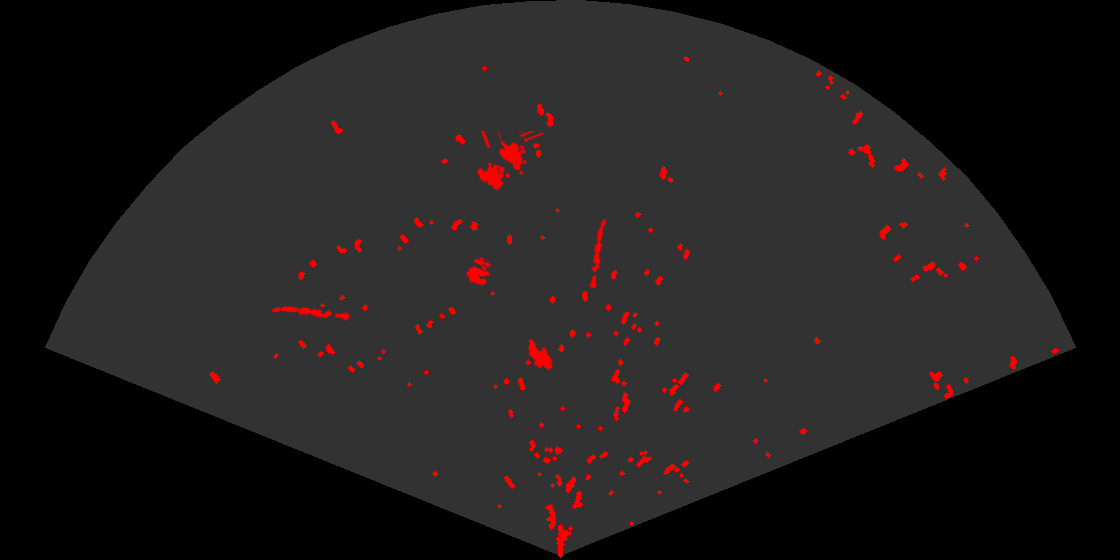AUV: (526, 337, 555, 372)
ball: (465, 257, 493, 287)
cage: (475, 131, 543, 192)
chain: (587, 217, 608, 289), (269, 304, 352, 322)
